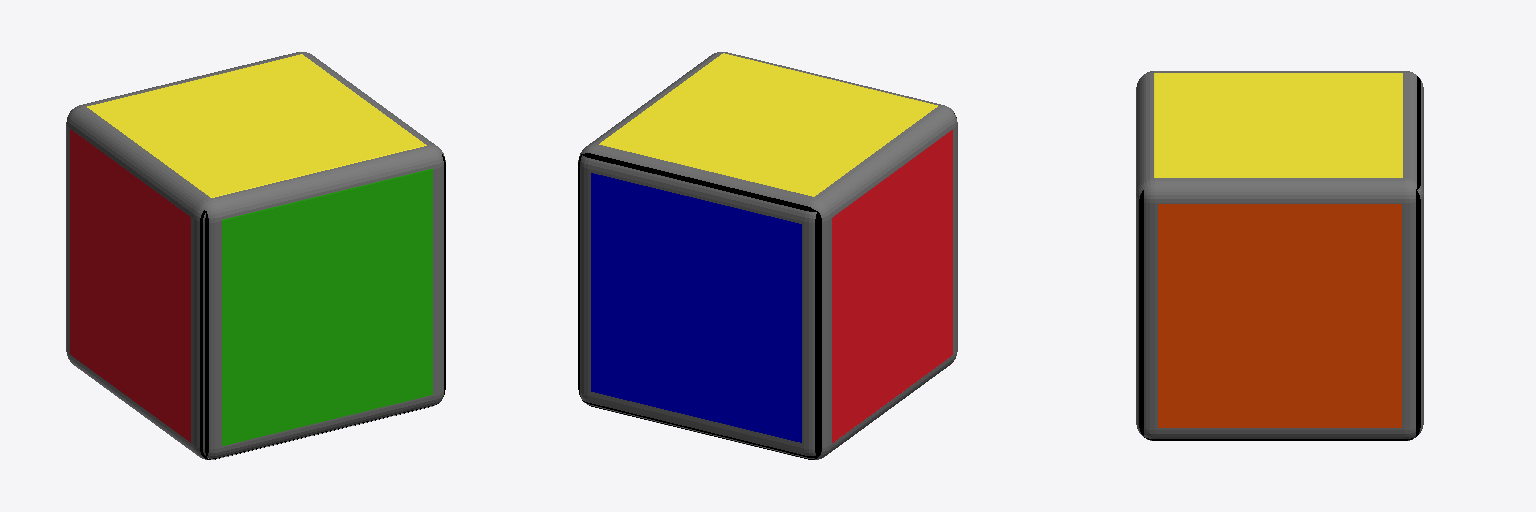
The picture shows the model from 3 angles: view 1: azimuth 30°, elevation 25°; view 2: azimuth 150°, elevation 25°; view 3: azimuth 270°, elevation 25°; orthographic projection.
Parts seen in each view (by area): view 1: Cube.001; view 2: Cube.001; view 3: Cube.001.
Boxes of the visible parts, x1=… form: Cube.001: x1=66, y1=52, x2=445, y2=459; Cube.001: x1=578, y1=52, x2=957, y2=459; Cube.001: x1=1136, y1=71, x2=1423, y2=440.
Size of the model in its own units: 2.3 by 2.3 by 2.3.
1 materials, 1 textured.